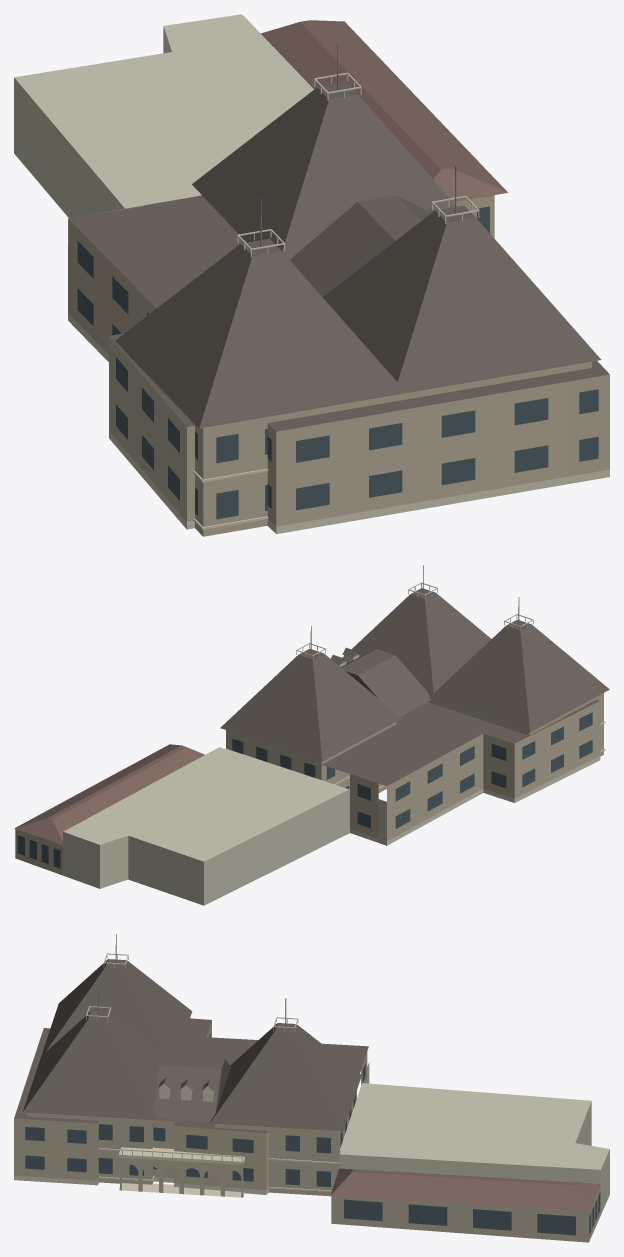
File: chateau-elan-winery-far.glb
3 views of the same model, one above another, from view 1: azimuth 30°, elevation 25°; view 2: azimuth 150°, elevation 25°; view 3: azimuth 270°, elevation 25° (orthographic). The views are drawn at different scales.
Visible parts, largest first — view 1: chateau-elan-winery-0-roof, chateau-elan-winery-0-stone, chateau-elan-winery-0-annex, chateau-elan-winery-0-tile, chateau-elan-winery-0-glass, chateau-elan-winery-0-trim; view 2: chateau-elan-winery-0-roof, chateau-elan-winery-0-annex, chateau-elan-winery-0-stone, chateau-elan-winery-0-tile, chateau-elan-winery-0-glass, chateau-elan-winery-0-trim; view 3: chateau-elan-winery-0-roof, chateau-elan-winery-0-annex, chateau-elan-winery-0-stone, chateau-elan-winery-0-glass, chateau-elan-winery-0-tile, chateau-elan-winery-0-trim.
Part boxes in pixels (x1,y1,x2,y2): chateau-elan-winery-0-roof: (69, 82, 609, 431); chateau-elan-winery-0-stone: (68, 195, 609, 536); chateau-elan-winery-0-annex: (14, 14, 313, 320); chateau-elan-winery-0-tile: (261, 20, 507, 201); chateau-elan-winery-0-glass: (77, 206, 598, 519); chateau-elan-winery-0-trim: (68, 72, 609, 534); chateau-elan-winery-0-roof: (220, 588, 609, 786); chateau-elan-winery-0-annex: (63, 747, 386, 905); chateau-elan-winery-0-stone: (15, 693, 603, 875); chateau-elan-winery-0-tile: (14, 744, 204, 845); chateau-elan-winery-0-glass: (17, 712, 592, 868); chateau-elan-winery-0-trim: (296, 582, 605, 845); chateau-elan-winery-0-roof: (14, 959, 368, 1133); chateau-elan-winery-0-annex: (339, 1062, 609, 1215); chateau-elan-winery-0-stone: (14, 1020, 600, 1242); chateau-elan-winery-0-glass: (25, 1033, 600, 1235); chateau-elan-winery-0-tile: (330, 1168, 600, 1211); chateau-elan-winery-0-trim: (14, 953, 339, 1197).
Bounding box in the file's own units: 64.72 × 29.5 × 94.61.
